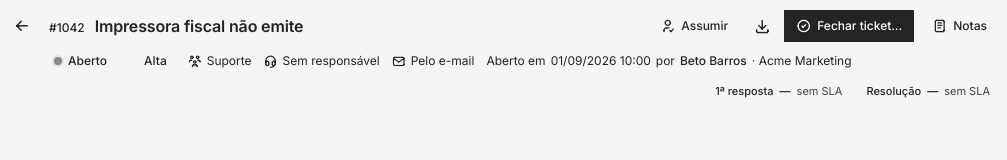
Test: CabecalhoTicket — exportar a transcrição › avisa que o servidor não gera PDF em vez de deixar um download quebrado
The width and height of the screenshot is (1007, 160).
Click the button named "Exportar a conversa em PDF": (762, 26) [746, 10, 778, 42]
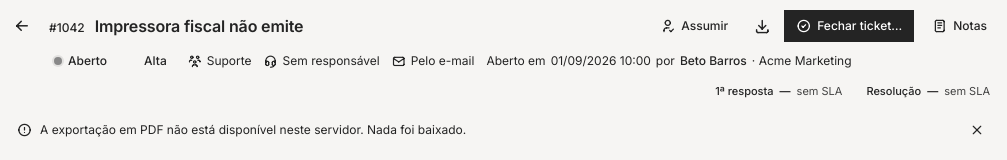
Now the message shows "A exportação em PDF não está disponível neste servidor.", box [40, 122, 466, 137]
